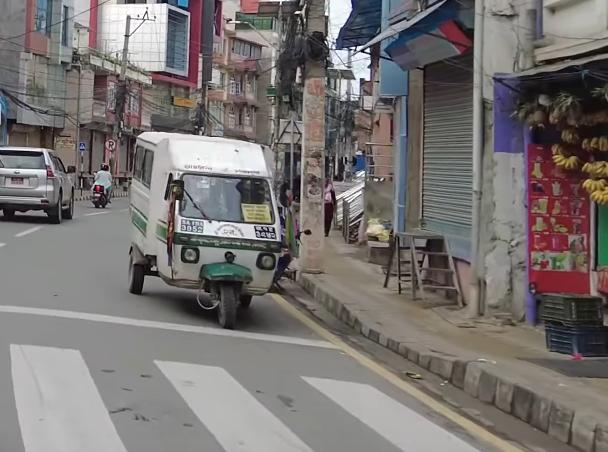SUV: (0, 144, 80, 225)
tempo: (125, 129, 289, 335)
